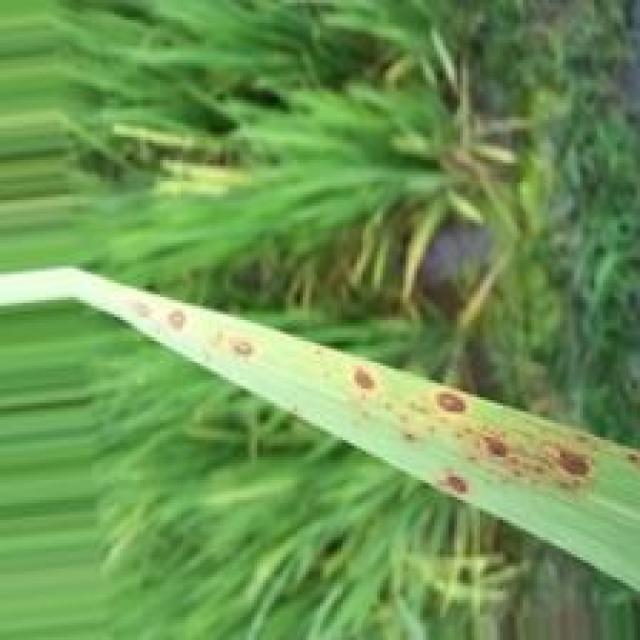Brown_Spot: (542, 438, 598, 484), (475, 429, 516, 463), (432, 387, 474, 415), (440, 471, 477, 500), (350, 364, 380, 396), (226, 337, 261, 362), (167, 307, 190, 334), (398, 429, 426, 445)
